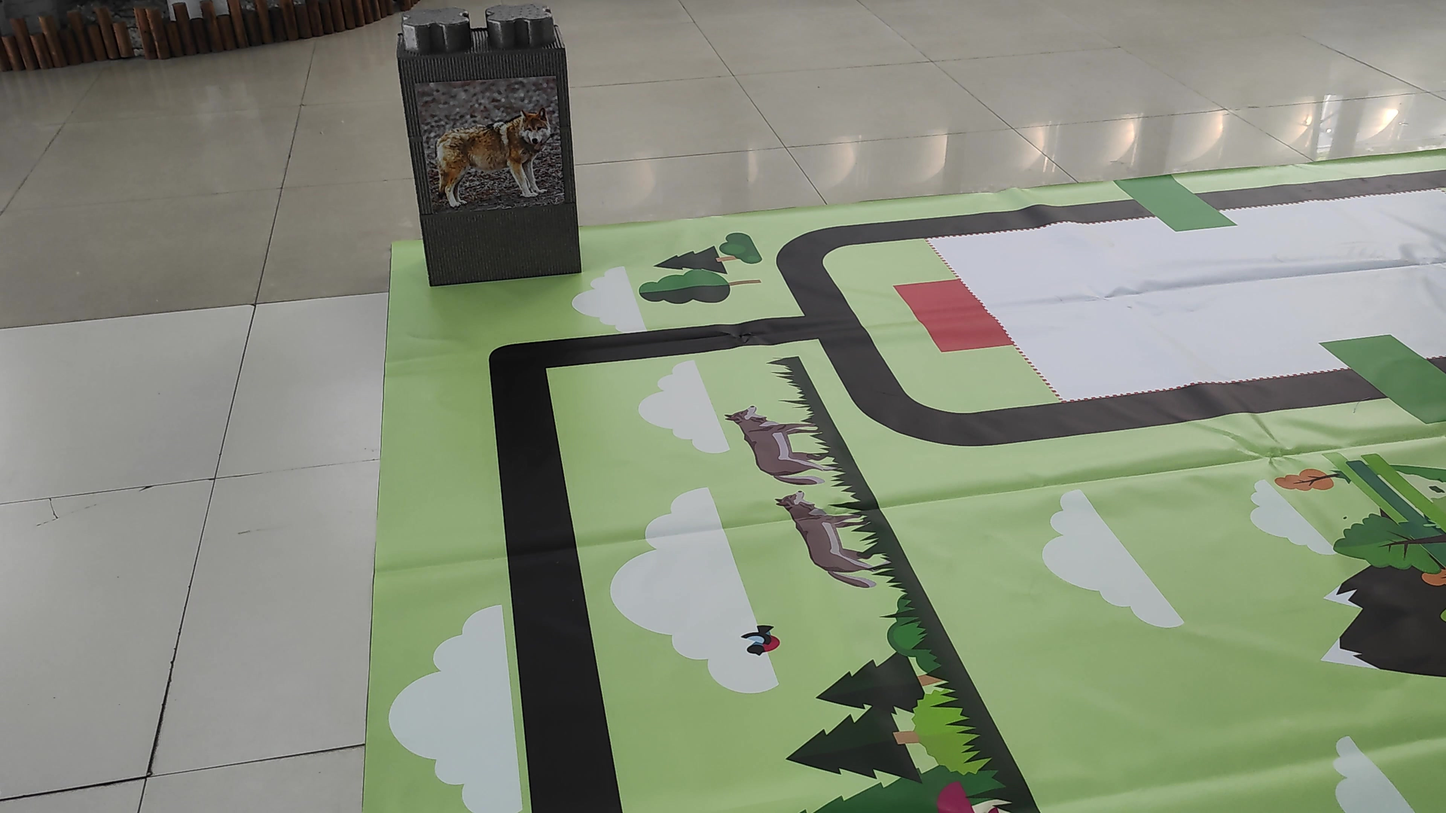wolf: (426, 96, 570, 216)
